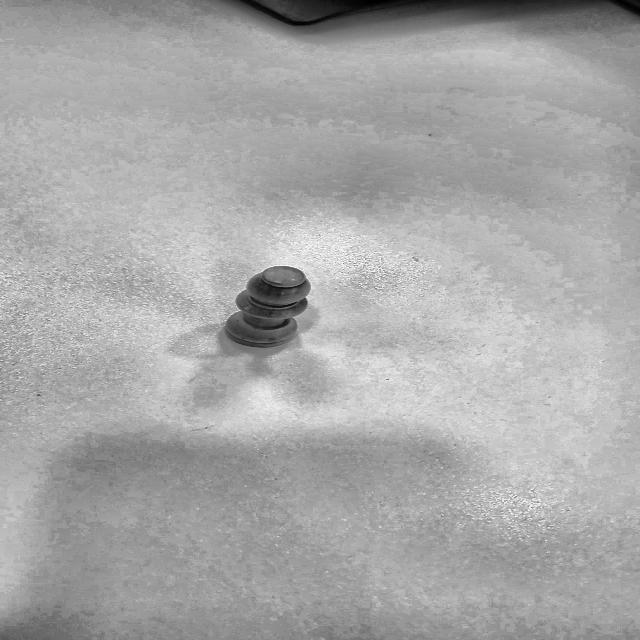white-bishop: (225, 266, 310, 348)
